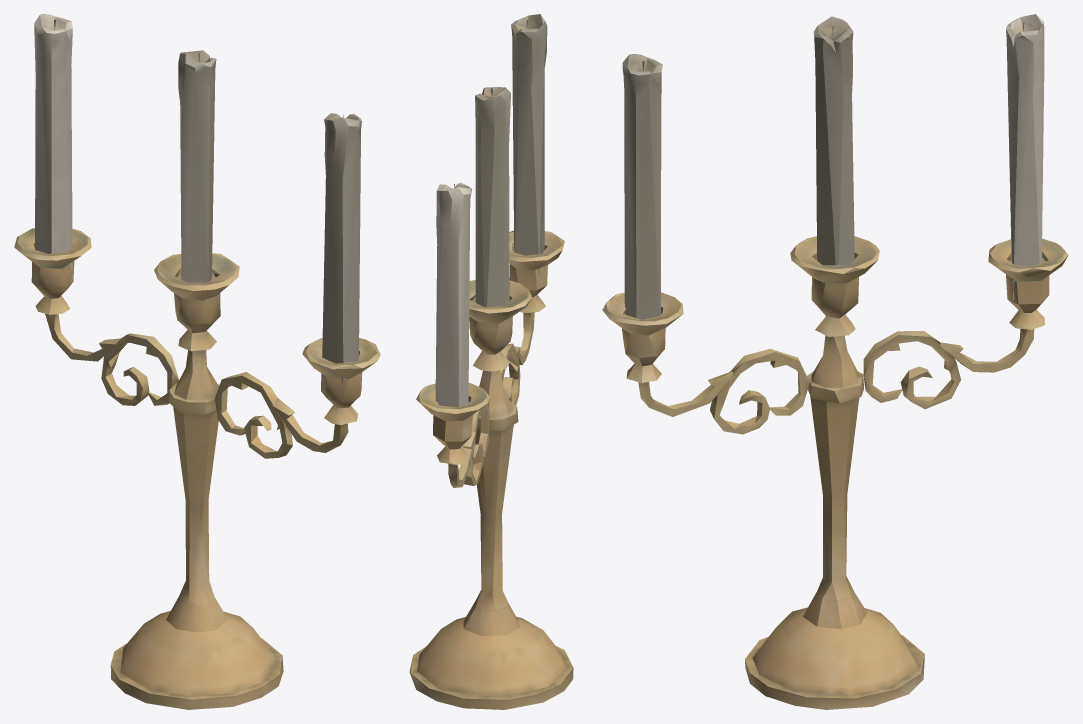
Rendered from candlestick-branch-a.lod1.glb.
3 views of the same model, side by side, from view 1: azimuth 30°, elevation 25°; view 2: azimuth 150°, elevation 25°; view 3: azimuth 270°, elevation 25° (orthographic). The views are drawn at different scales.
Visible parts, largest first — view 1: candlestick-branch-a; view 2: candlestick-branch-a; view 3: candlestick-branch-a.
Boxes of the visible parts, box(x1,y1,x2,y2) form: candlestick-branch-a: box(14, 14, 380, 709); candlestick-branch-a: box(409, 14, 573, 709); candlestick-branch-a: box(602, 14, 1068, 709).
Bounding box in the file's own units: 0.1158 × 0.4013 × 0.2615.
Materials: 1 (1 with a texture image).
